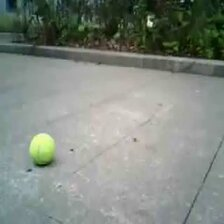tennis: (31, 134, 53, 163)
